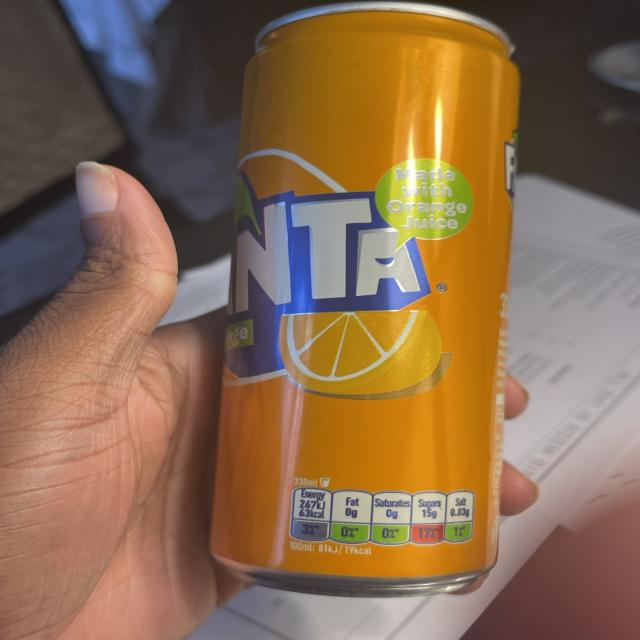fanta: (228, 9, 524, 600)
